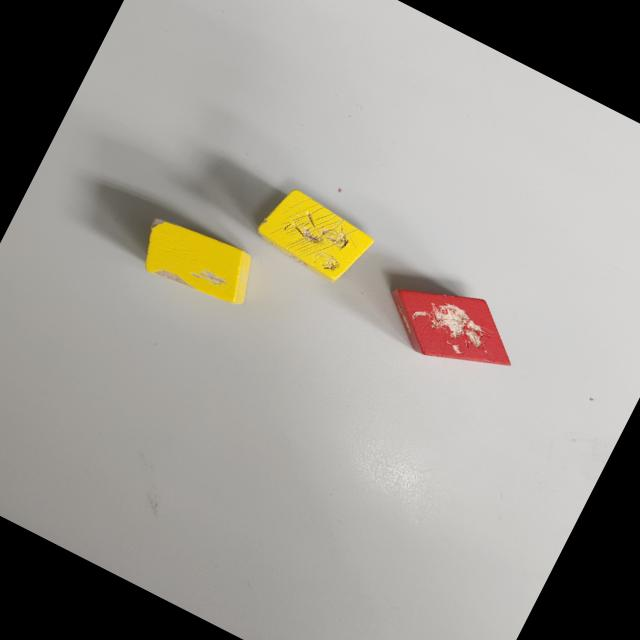broken: (371, 260, 532, 394), (127, 206, 266, 317), (248, 180, 380, 292)
